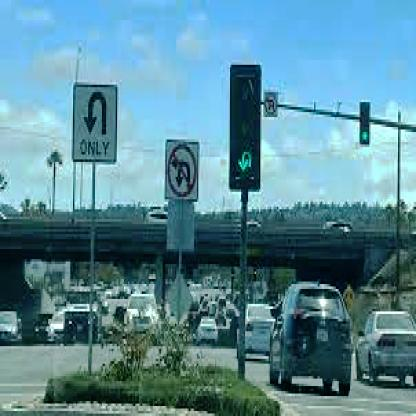U-turn: (72, 86, 117, 146)
